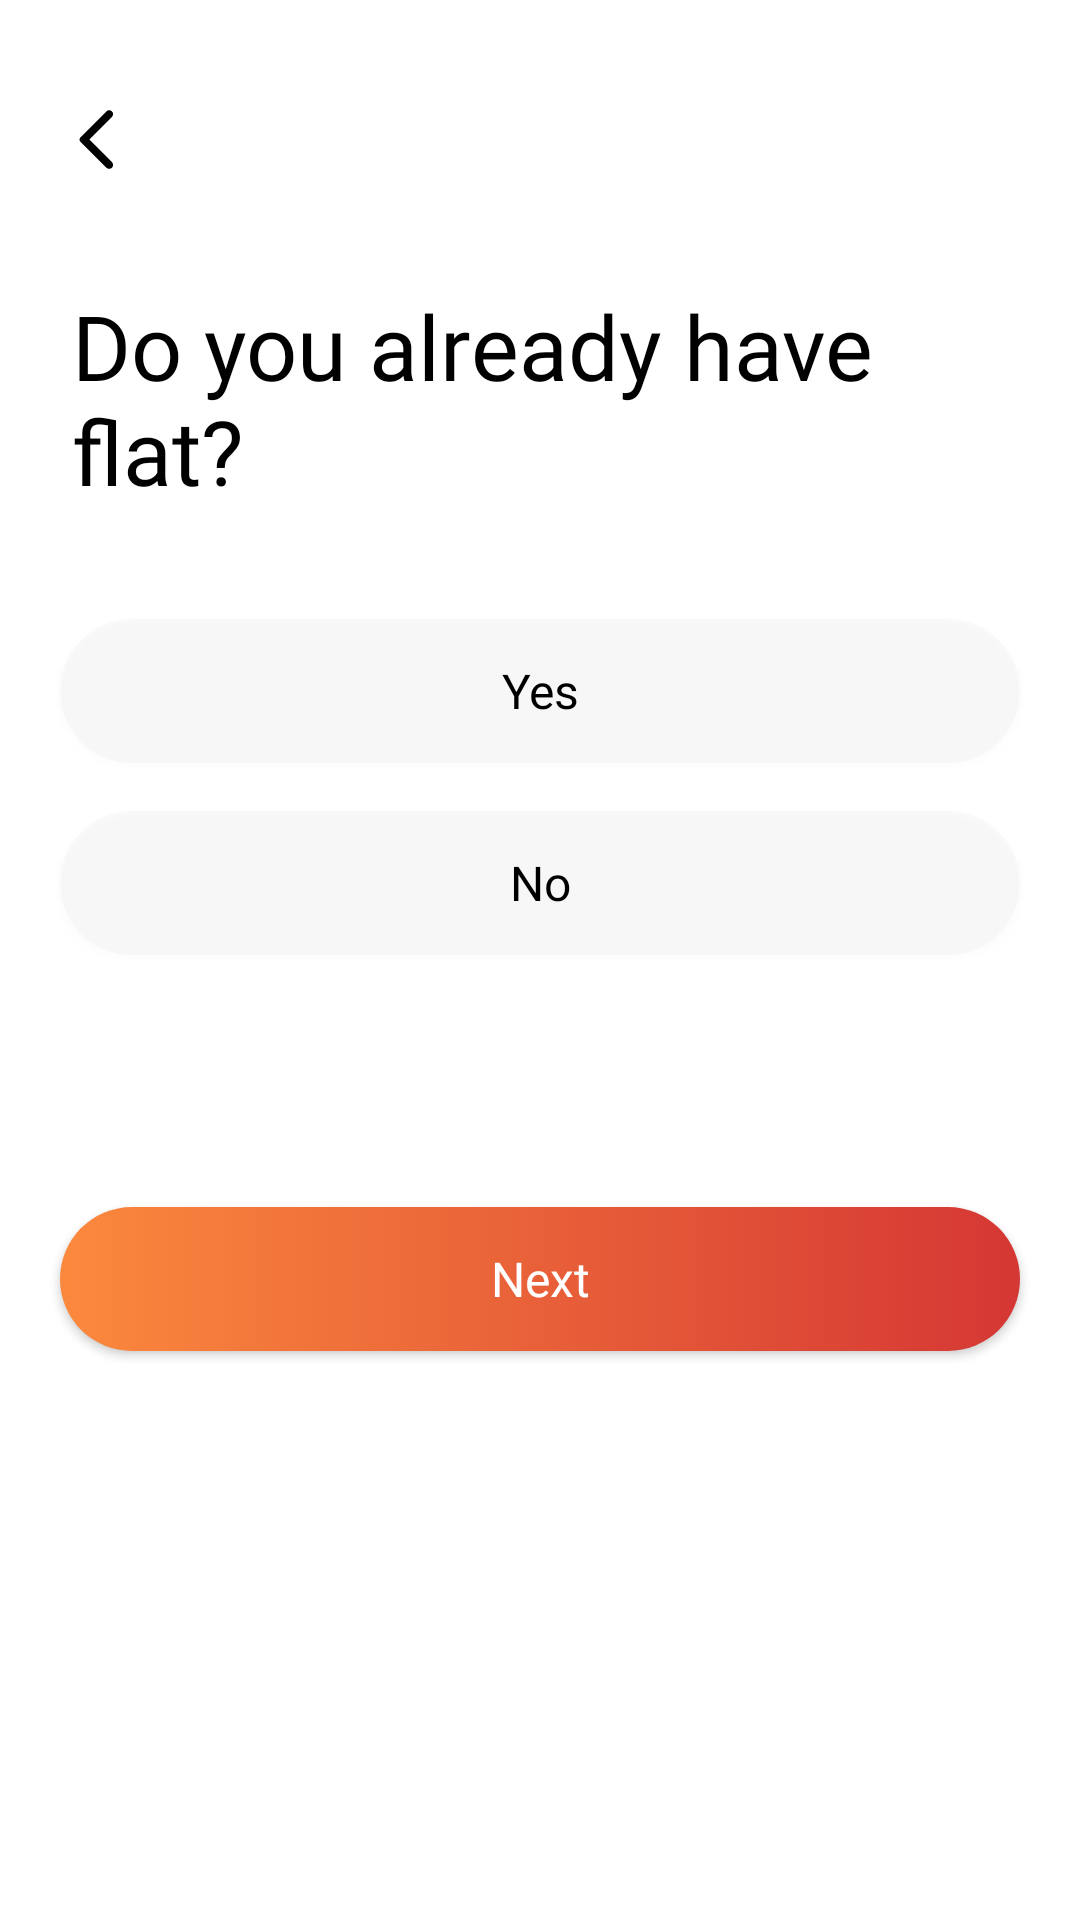

Icons on this 1080px×1920px Android screen, each with the point to tap as point (x, y):
arrow back: point (96, 139)
